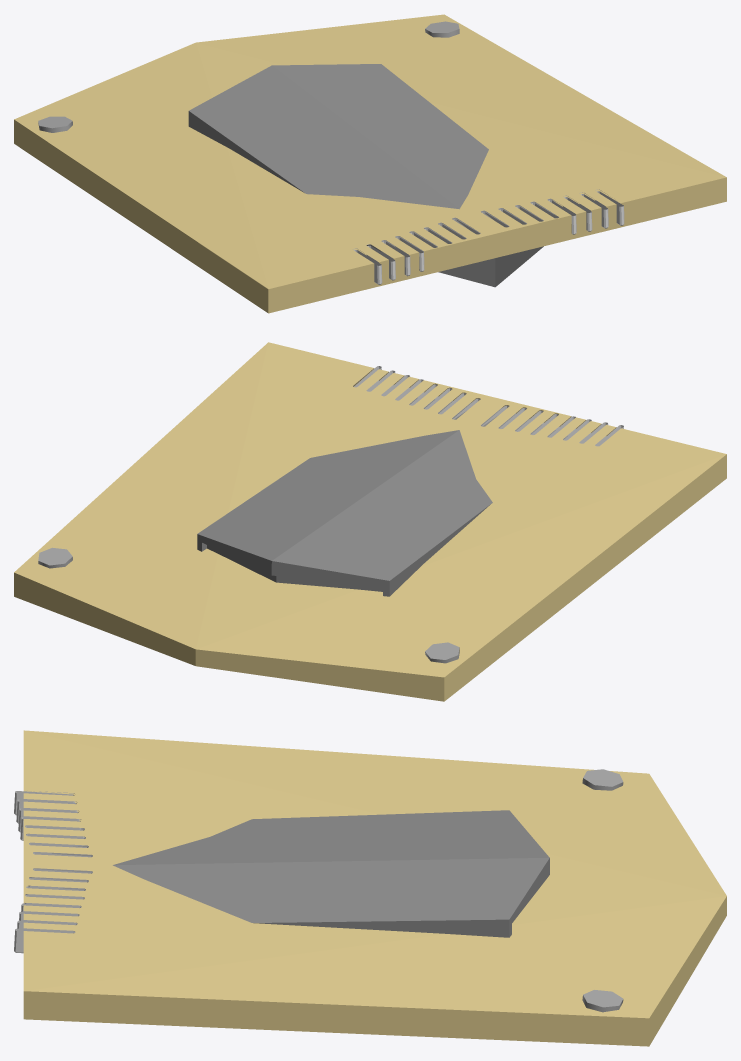
The model's file is cofano.fbx.
3 renders of one model, top to bottom at view 1: azimuth 30°, elevation 25°; view 2: azimuth 150°, elevation 25°; view 3: azimuth 270°, elevation 25°, orthographic. The views are drawn at different scales.
Parts seen in each view (by area): view 1: Cube_1, Cube_2_4, Cylinder_7, Cube_4_2, Cube_8_2; view 2: Cube_1, Cube_2_4, Cylinder_7; view 3: Cube_1, Cube_2_4, Cylinder_7, Cube_4_2, Cube_8_2, Cube_3_2, Cube_7_3.
Boxes of the visible parts, <box> form: Cube_1: <box>14,14,726,313</box>; Cube_2_4: <box>188,64,555,287</box>; Cylinder_7: <box>38,21,459,132</box>; Cube_4_2: <box>354,191,624,284</box>; Cube_8_2: <box>366,194,608,280</box>; Cube_1: <box>14,342,726,701</box>; Cube_2_4: <box>197,397,567,596</box>; Cylinder_7: <box>38,547,459,663</box>; Cube_1: <box>23,730,726,1046</box>; Cube_2_4: <box>29,810,549,937</box>; Cylinder_7: <box>582,769,623,1012</box>; Cube_4_2: <box>14,791,74,953</box>; Cube_8_2: <box>16,799,77,932</box>; Cube_3_2: <box>18,808,79,924</box>; Cube_7_3: <box>20,817,81,915</box>.
Bounding box in the file's own units: 151 × 18.43 × 175.
